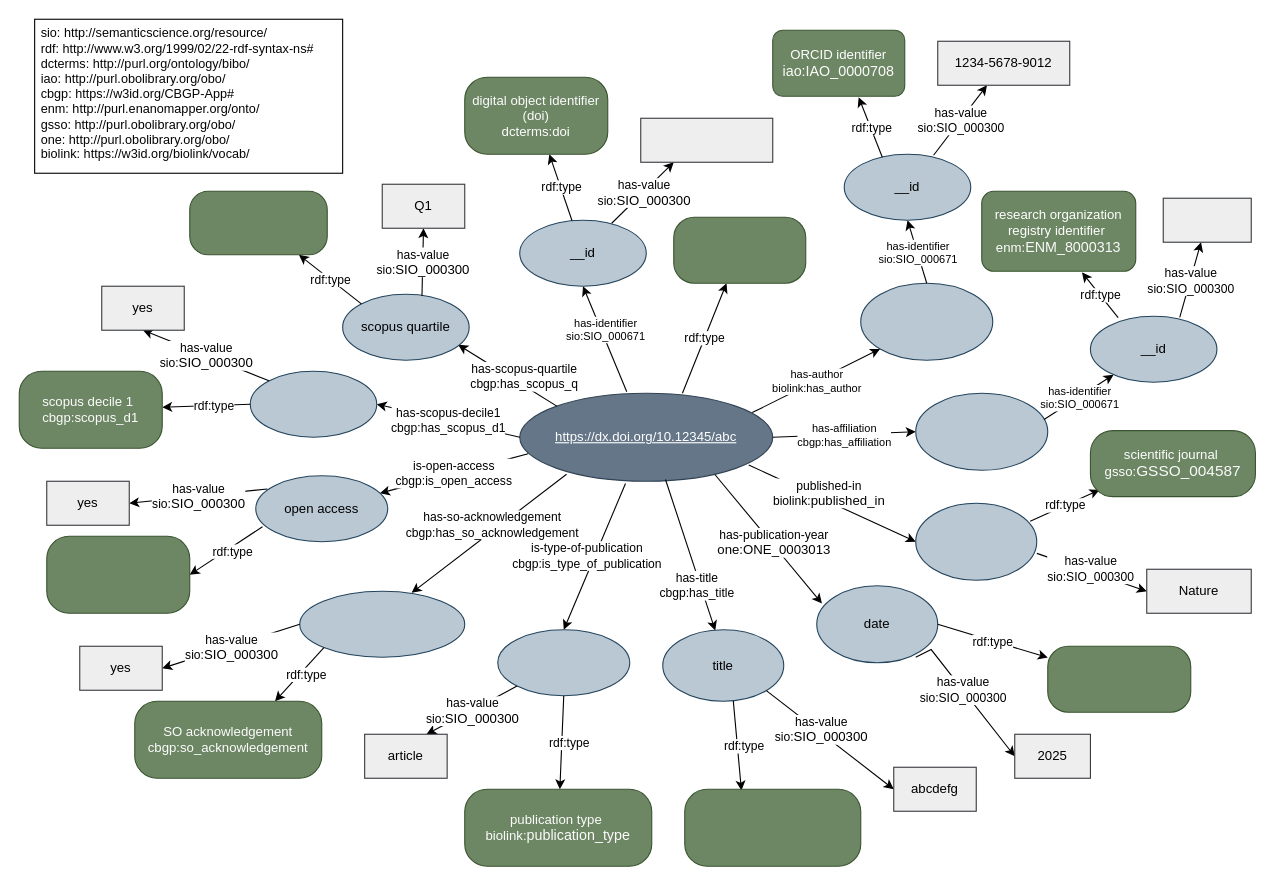
The diagram is 1275 pixels wide and 886 high, and some of its shapes have lost their labels. The box of each missing label's shape, as (x1, y1, x2, y2) in pixels:
10.12345/abc: (640, 117, 773, 162)
123abc: (1162, 197, 1251, 242)
__affiliationid: (915, 392, 1048, 470)
__authorid: (860, 282, 993, 360)
journal: (915, 502, 1037, 580)
open access cbgp:open_access: (46, 535, 190, 613)
publication sio: SIO_000087: (673, 216, 806, 283)
Publication Title ncit: NCIT_C183337: (684, 788, 861, 866)
publication type: (497, 629, 630, 696)
scopus decile1: (249, 370, 377, 437)
scopus quartile cbgp:scopus_q: (189, 190, 327, 255)
SO acknowledgement: (299, 590, 465, 657)
year sio: SIO_000428: (1047, 645, 1191, 712)
